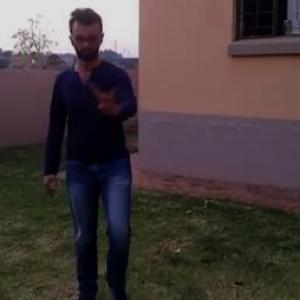takeoff-hand: (89, 78, 124, 118)
